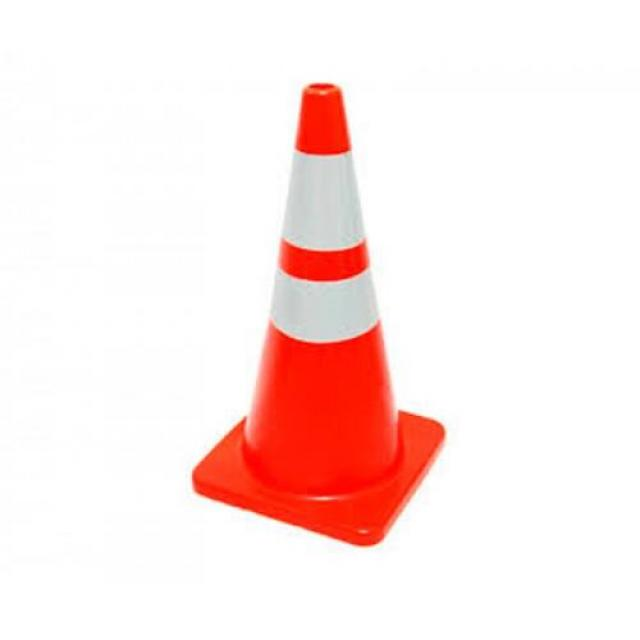cone: (110, 57, 546, 589)
